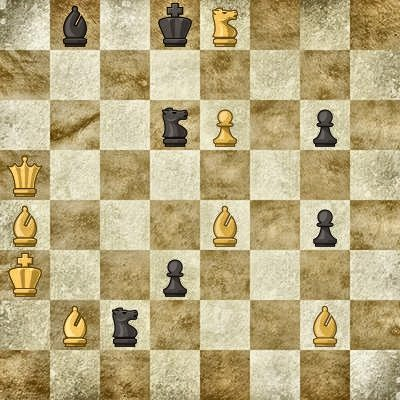black-bishop: (50, 0, 100, 50)
black-king: (150, 0, 200, 50)
black-knight: (150, 100, 200, 150), (100, 300, 150, 350)
black-pawn: (300, 100, 350, 150), (300, 200, 350, 250), (150, 250, 200, 300)
white-bishop: (0, 200, 50, 250), (200, 200, 250, 250), (50, 300, 100, 350), (300, 300, 350, 350)
white-king: (0, 250, 50, 300)
white-knight: (200, 0, 250, 50)
white-pawn: (200, 100, 250, 150)
white-queen: (0, 150, 50, 200)
